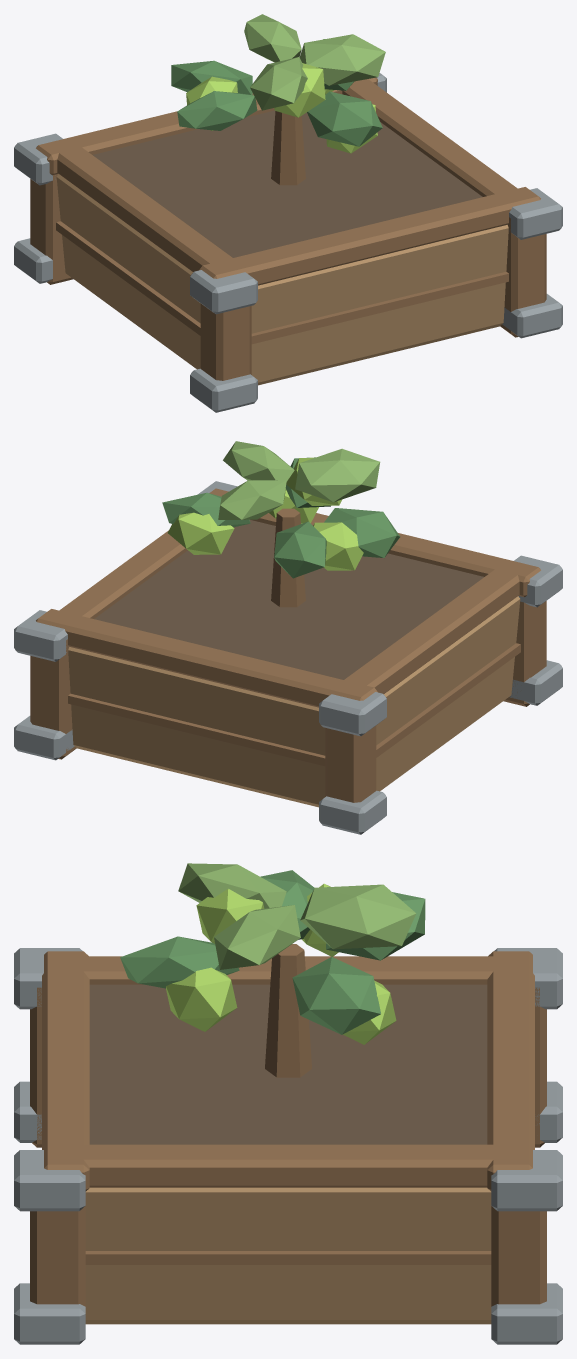
Rendered from BUILD0034_PlanterBox_Lime.fbx.
3 views of the same model, one above another, from view 1: azimuth 30°, elevation 25°; view 2: azimuth 150°, elevation 25°; view 3: azimuth 270°, elevation 25° (orthographic). The views are drawn at different scales.
Parts seen in each view (by area): view 1: BUILD0034_PlanterBox_Lime, CropFoliageRoot, CropFruitRoot; view 2: BUILD0034_PlanterBox_Lime, CropFoliageRoot, CropFruitRoot; view 3: BUILD0034_PlanterBox_Lime, CropFoliageRoot, CropFruitRoot.
Boxes of the visible parts, box(x1,y1,x2,y2) form: BUILD0034_PlanterBox_Lime: box(14, 73, 562, 412); CropFoliageRoot: box(171, 14, 385, 185); CropFruitRoot: box(186, 63, 377, 153); BUILD0034_PlanterBox_Lime: box(14, 481, 562, 834); CropFoliageRoot: box(162, 441, 400, 607); CropFruitRoot: box(167, 457, 363, 570); BUILD0034_PlanterBox_Lime: box(14, 948, 562, 1344); CropFoliageRoot: box(120, 863, 425, 1077); CropFruitRoot: box(166, 883, 396, 1044).
Size of the model in its own units: 1.38 by 0.9716 by 1.38.
